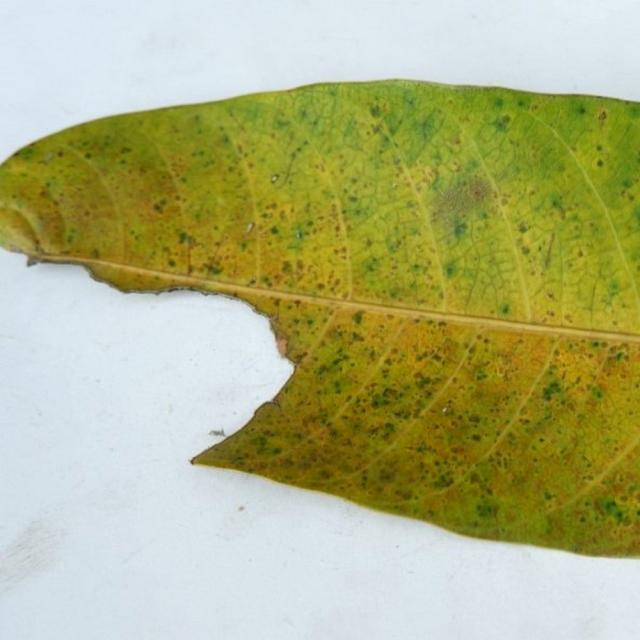Mango: (0, 81, 639, 556)
Powdery_Mildew: (404, 368, 552, 459), (374, 100, 451, 165), (585, 102, 639, 181), (432, 173, 497, 232), (33, 203, 69, 248), (408, 370, 452, 403), (276, 144, 303, 189), (148, 185, 176, 219), (382, 108, 408, 141), (537, 380, 567, 405), (345, 307, 376, 328), (253, 401, 282, 422), (604, 500, 629, 521), (542, 235, 556, 270), (604, 279, 622, 303), (439, 338, 460, 358), (588, 283, 600, 316), (476, 501, 497, 518), (292, 224, 312, 241), (184, 237, 193, 274), (452, 221, 469, 239), (469, 184, 487, 200), (494, 118, 510, 134), (176, 231, 194, 245), (434, 475, 452, 488), (380, 388, 398, 400), (444, 262, 457, 277), (205, 263, 222, 274), (369, 104, 382, 118), (517, 221, 530, 234), (281, 262, 294, 275), (352, 311, 364, 325), (597, 110, 607, 123), (294, 350, 307, 360), (593, 388, 604, 399), (520, 245, 530, 256), (577, 105, 587, 115), (500, 303, 509, 314), (245, 222, 253, 233), (167, 258, 176, 267), (546, 291, 555, 300), (44, 152, 53, 161), (348, 195, 358, 203), (564, 314, 573, 322), (271, 174, 279, 183), (596, 159, 604, 167), (295, 230, 302, 239), (546, 310, 555, 317), (249, 278, 256, 285), (578, 249, 584, 257), (386, 314, 394, 320), (392, 182, 397, 188)
